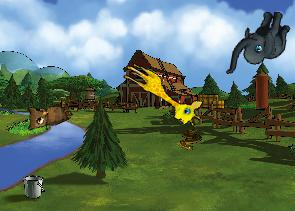elephant: (225, 4, 292, 82)
giraffe: (115, 59, 208, 130)
owl: (20, 91, 74, 135)
